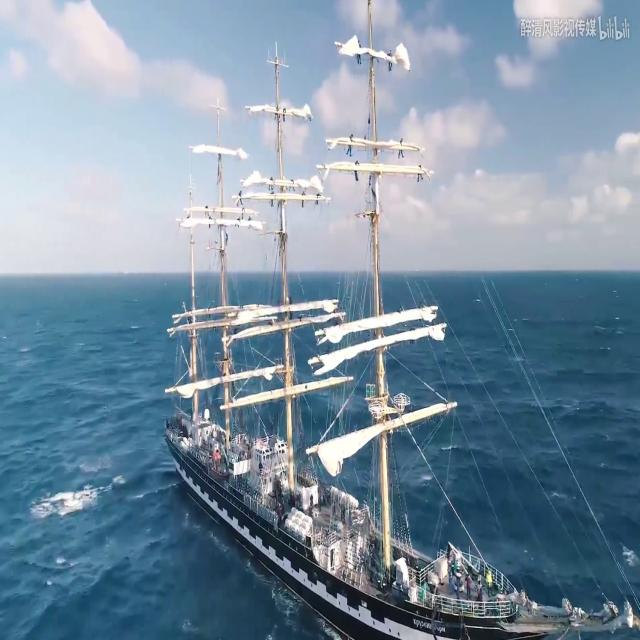sailboat: (154, 20, 611, 640)
